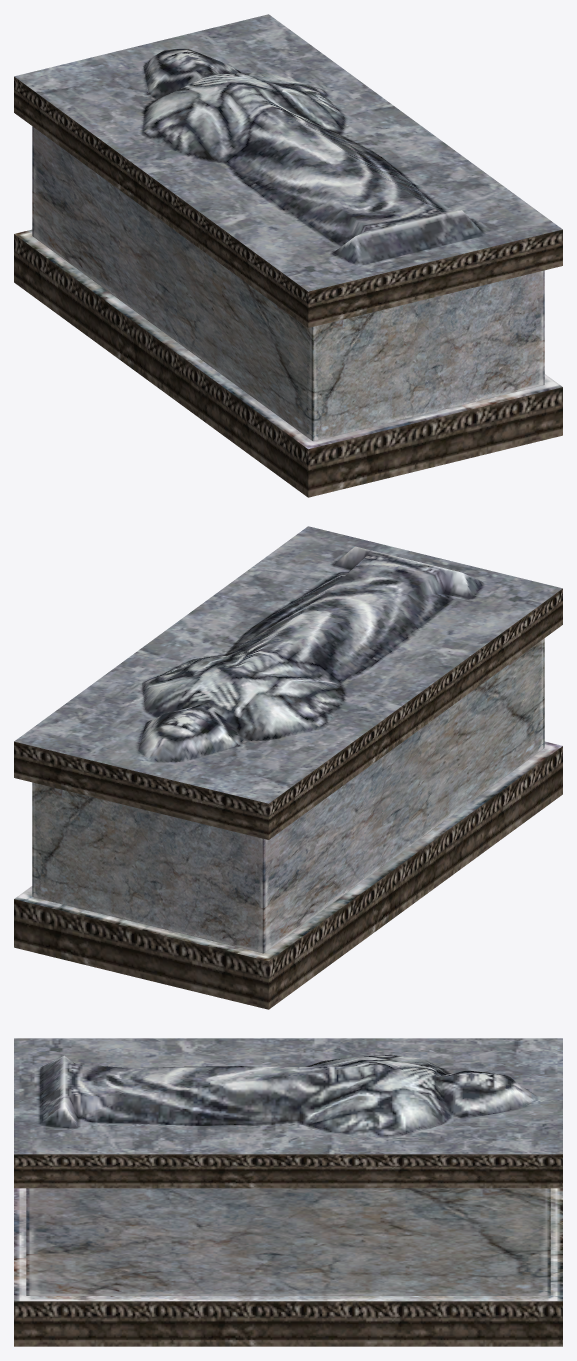
The model's file is d_sark2.glb.
The picture shows the model from 3 angles, top to bottom: view 1: azimuth 30°, elevation 25°; view 2: azimuth 150°, elevation 25°; view 3: azimuth 270°, elevation 25°; orthographic projection. The views are drawn at different scales.
Parts seen in each view (by area): view 1: d_sark2-col; view 2: d_sark2-col; view 3: d_sark2-col.
Part boxes in pixels (bbox=[...]): d_sark2-col: bbox=[14, 14, 562, 497]; d_sark2-col: bbox=[14, 526, 562, 1009]; d_sark2-col: bbox=[14, 1038, 562, 1346].
Bounding box in the file's own units: 1.1 × 0.9821 × 2.2.
2 materials, 2 textured.
